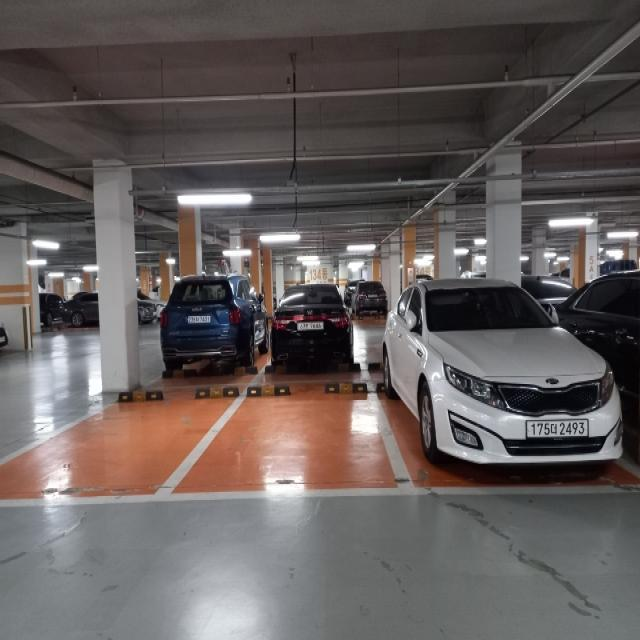empty: (3, 378, 219, 497), (208, 384, 397, 499)
occupied: (384, 276, 626, 478), (160, 272, 264, 374), (270, 284, 354, 372)
